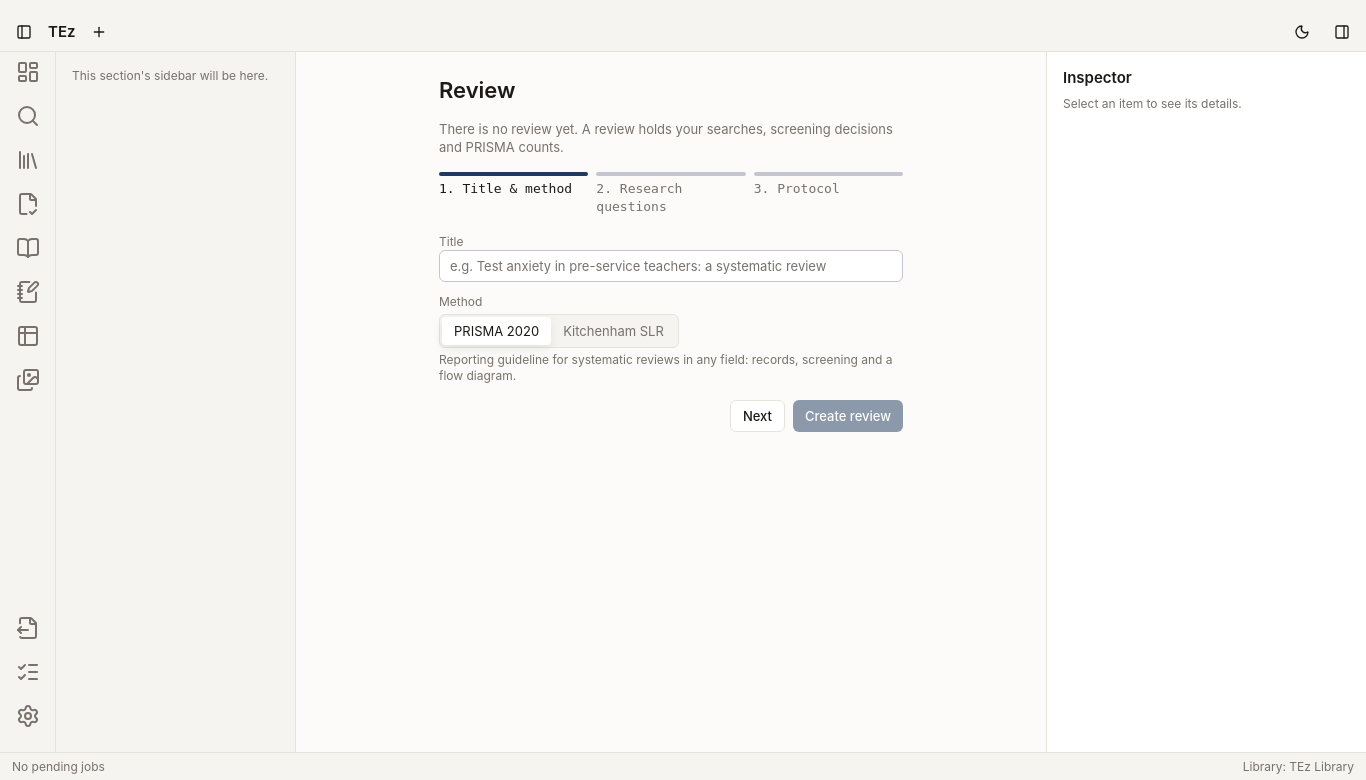
Scenario: the review wizard › drops a removed question
Type "SLR" into the field labelled "Title". click: (671, 266)
box: [439,250,903,282]
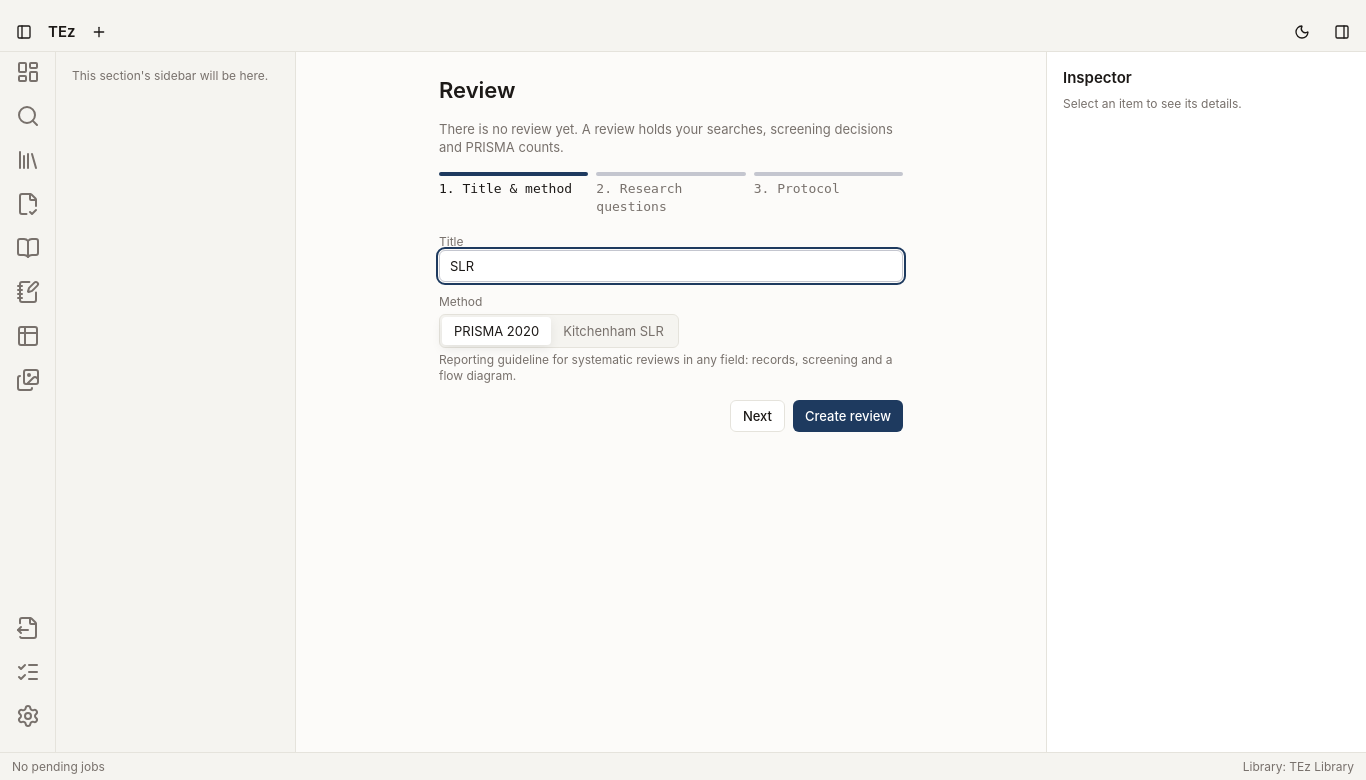
Click the button "Next". click: (757, 416)
box: [730,400,785,432]
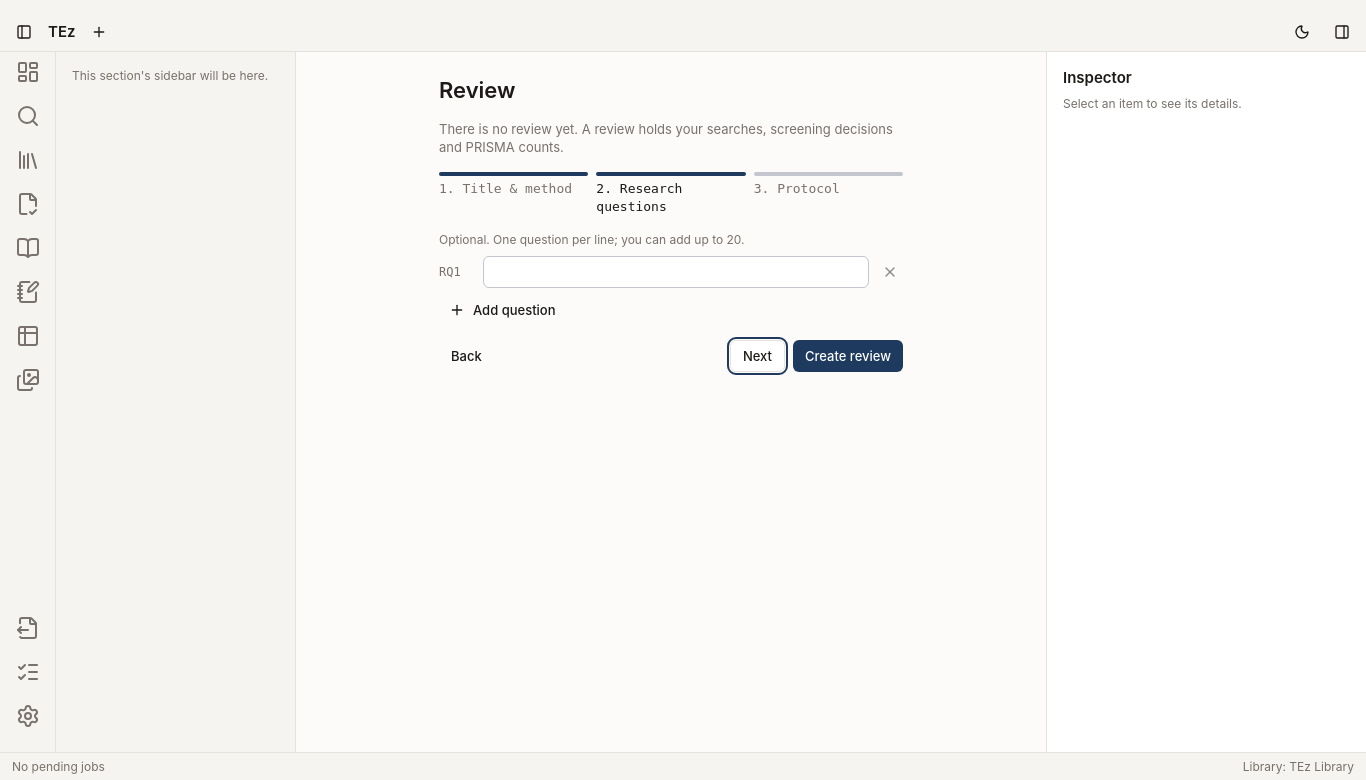
Type "First" into the field named "Research question 1". click: (676, 272)
box: [483,256,869,288]
Click the button "Add question". click: (502, 310)
box: [439,296,566,324]
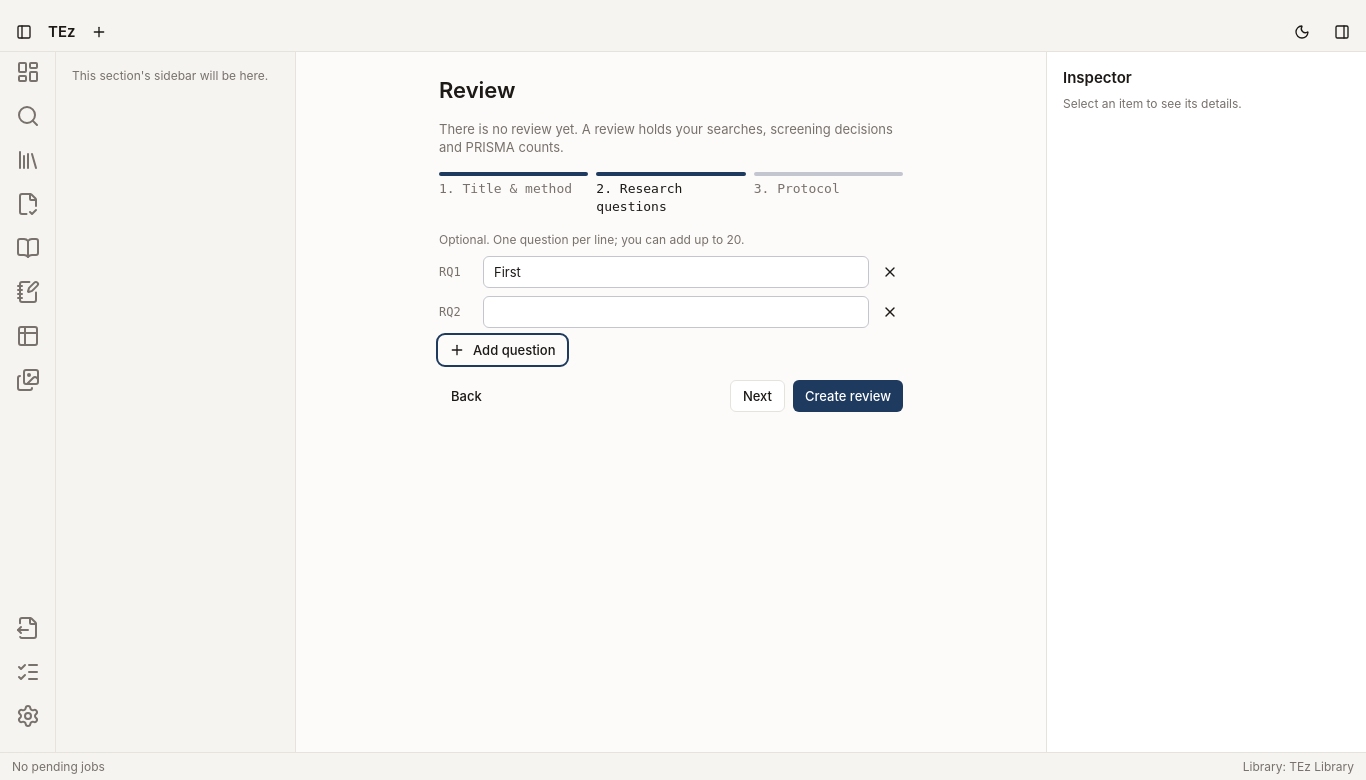
Type "Second" into the field named "Research question 2". click: (676, 312)
box: [483,296,869,328]
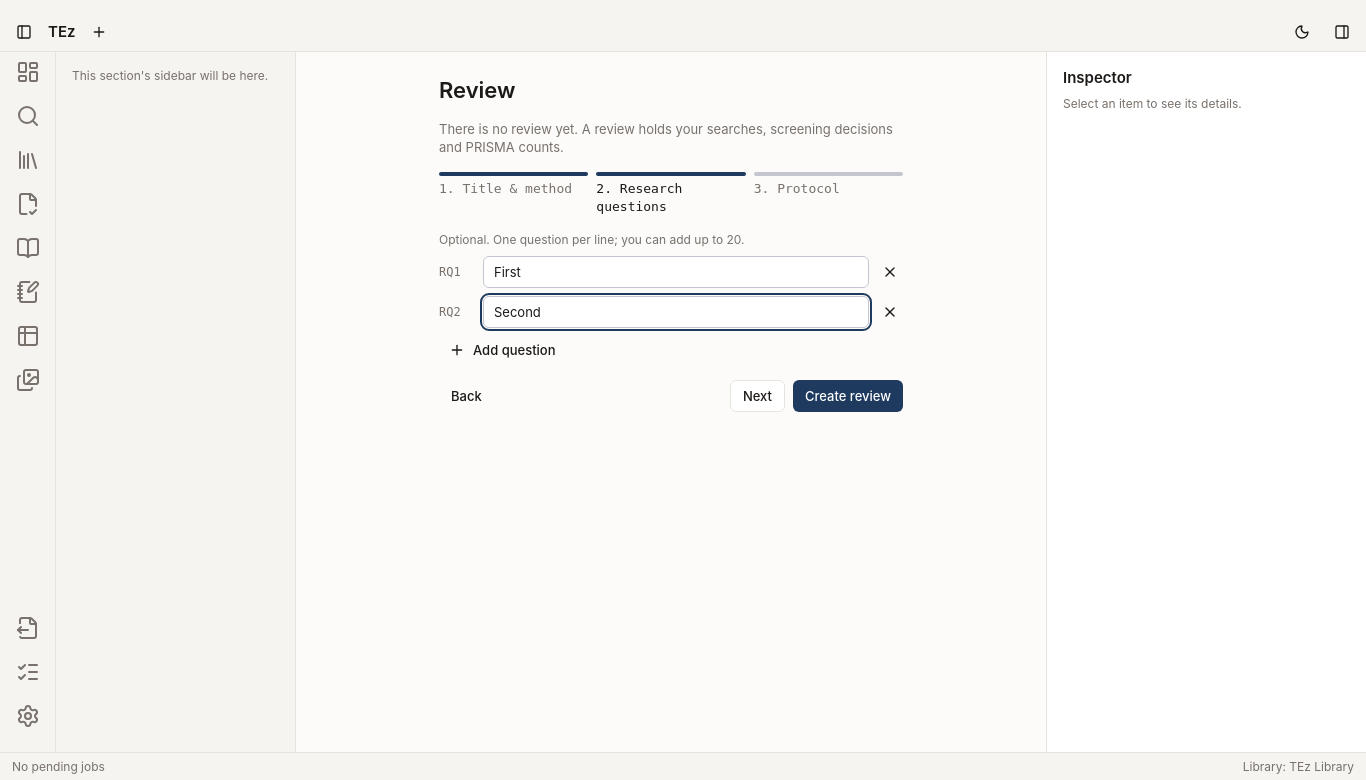
Click the button named "Remove research question 1". click: (890, 272)
box: [877,256,903,288]
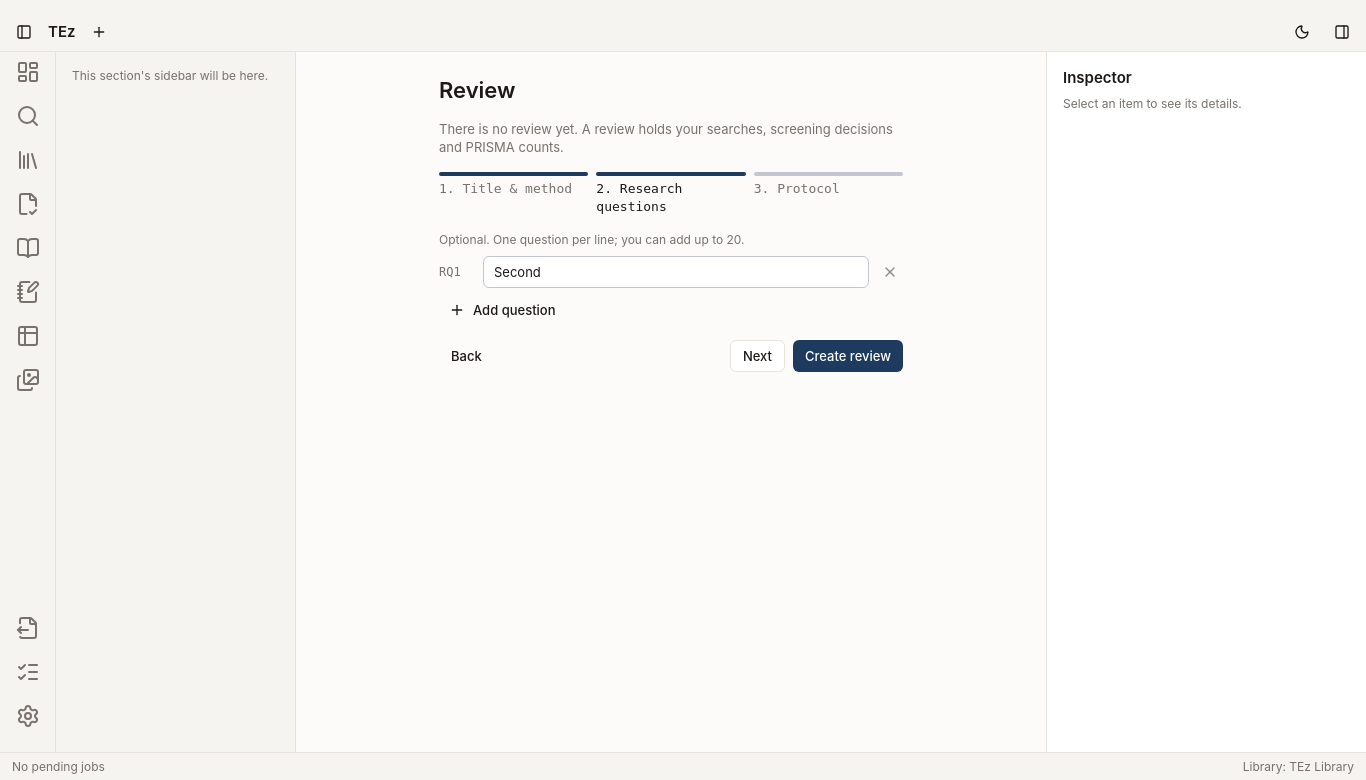
Click the button "Create review". click: (848, 356)
box: [793,340,903,372]
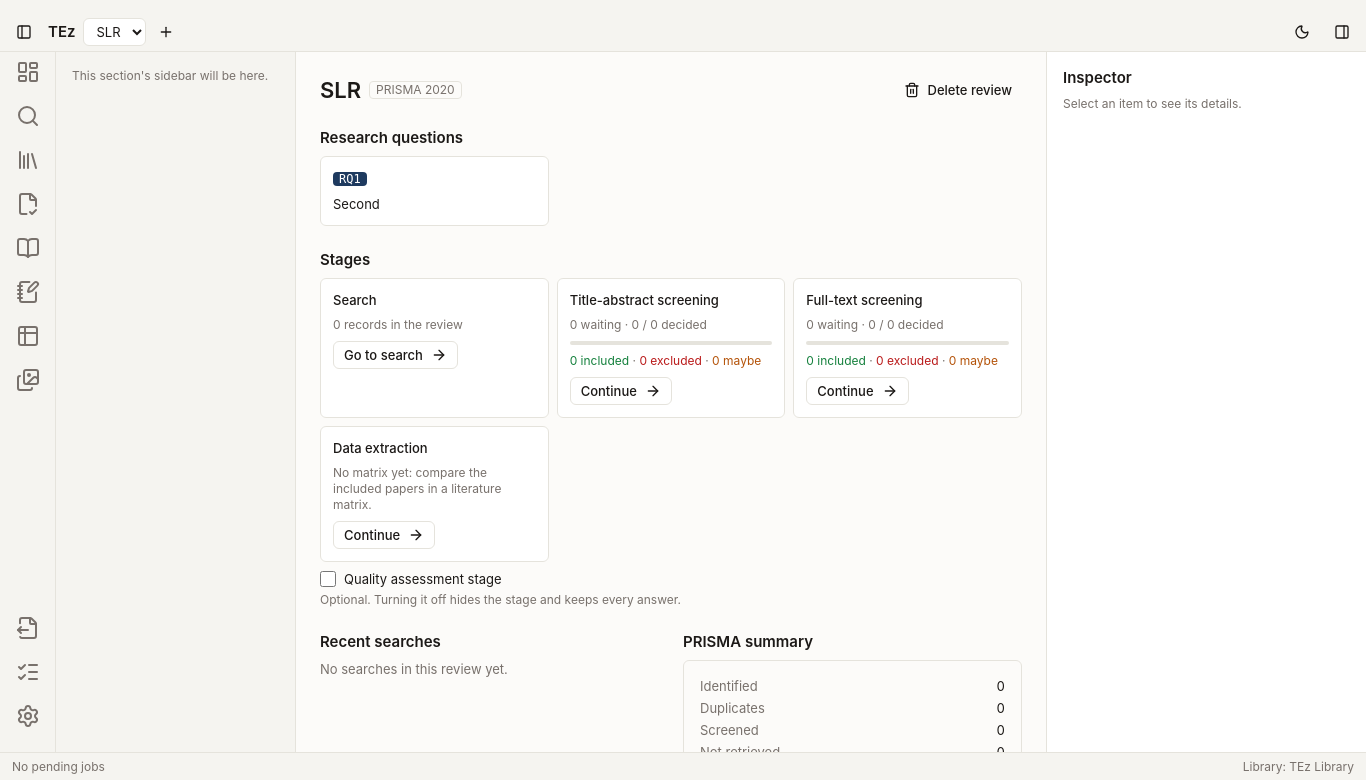
Now the heading "SLR" is shown, box [320,76,361,104]
